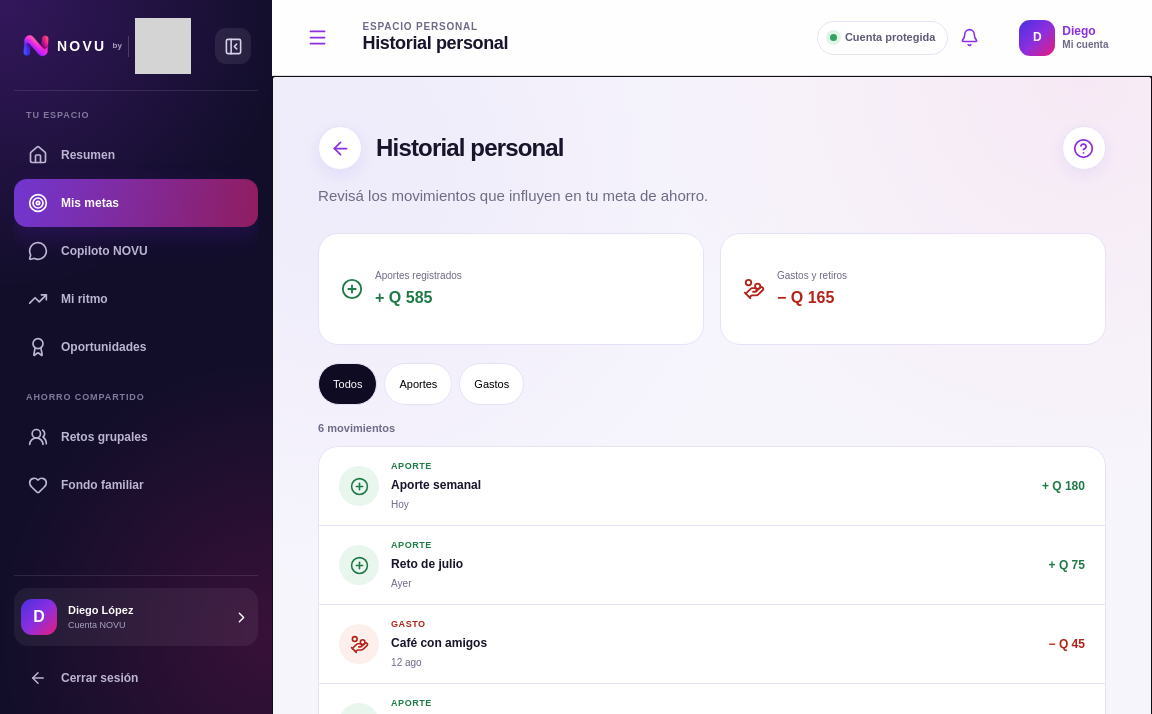
it: filtros de historiales › abre el historial personal y separa aportes de gastos
Expected: the heading "Historial personal" is shown, [376,130,564,167]
Expected: the text "Aporte semanal" is shown, [391,478,481,492]
Click the button "Gastos" at (492, 384), box [459,363,524,405]
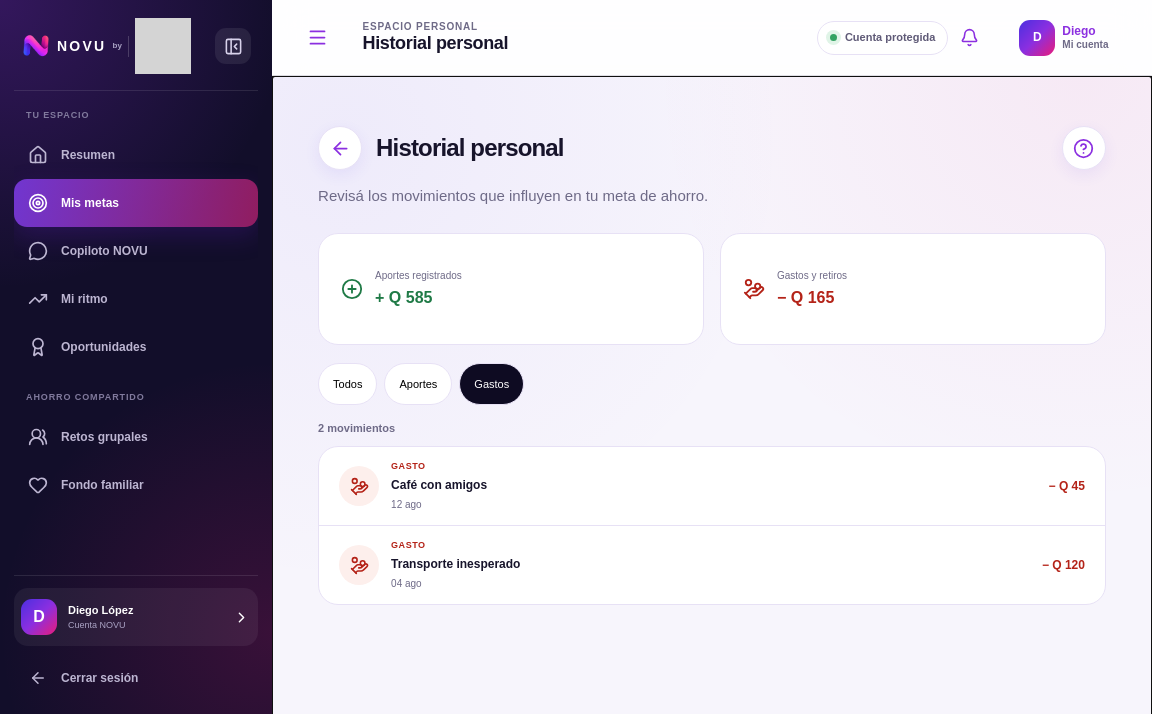
Expected: the text "Café con amigos" is shown, [391,478,487,492]
Expected: the text "Aporte semanal" is not shown
Click the button "Aportes" at (418, 384), box [384,363,452,405]
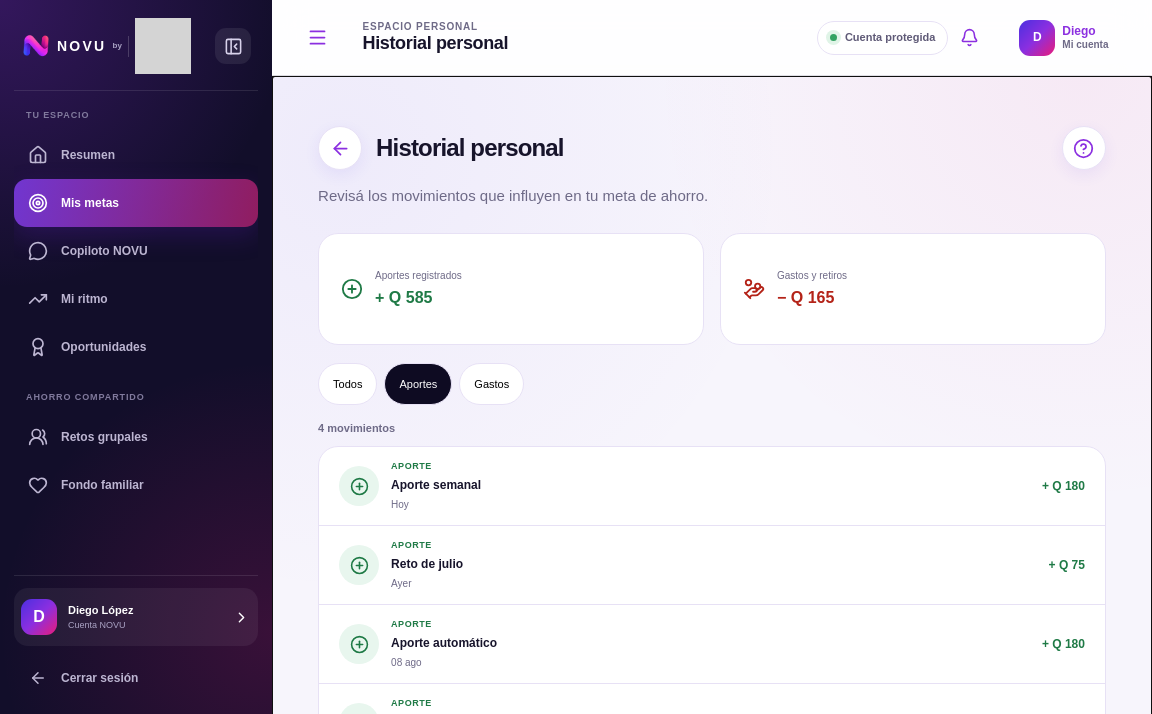
Expected: the text "Aporte semanal" is shown, [391,478,481,492]
Expected: the text "Café con amigos" is gone
